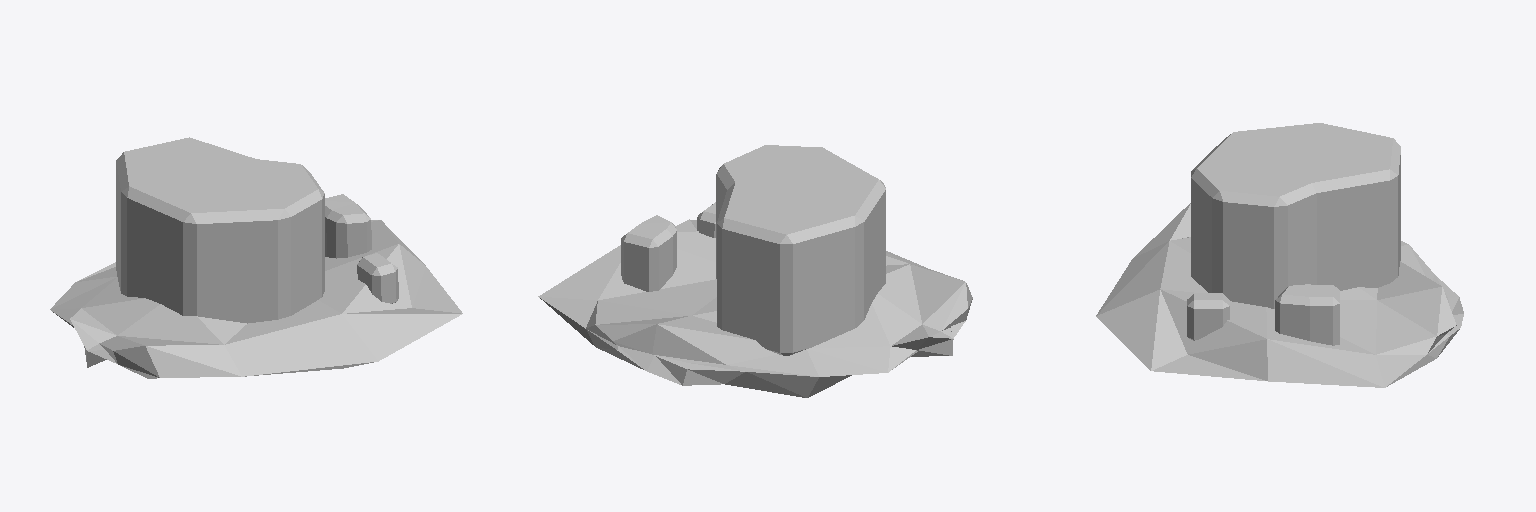
Rendered from crystalls.obj.
The picture shows the model from 3 angles: view 1: azimuth 30°, elevation 25°; view 2: azimuth 150°, elevation 25°; view 3: azimuth 270°, elevation 25°; orthographic projection.
Visible parts, largest first — view 1: Cube, Cube.003, Cube.001, Cube.002; view 2: Cube.003, Cube, Cube.001; view 3: Cube, Cube.003, Cube.001, Cube.002.
Boxes of the visible parts, <box> form: Cube: <box>116,137,324,323</box>; Cube.003: <box>50,220,462,378</box>; Cube.001: <box>325,194,371,258</box>; Cube.002: <box>357,253,398,303</box>; Cube.003: <box>538,219,972,397</box>; Cube: <box>716,145,885,355</box>; Cube.001: <box>621,215,676,291</box>; Cube: <box>1191,123,1400,308</box>; Cube.003: <box>1096,203,1463,387</box>; Cube.001: <box>1275,284,1339,345</box>; Cube.002: <box>1187,293,1229,340</box>.
Size of the model in its own units: 6.02 by 2.63 by 5.42.